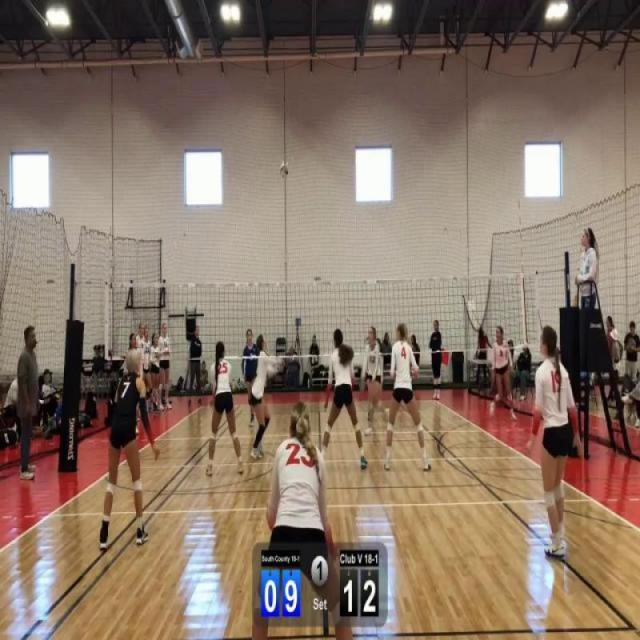volleyball: (279, 160, 290, 180)
